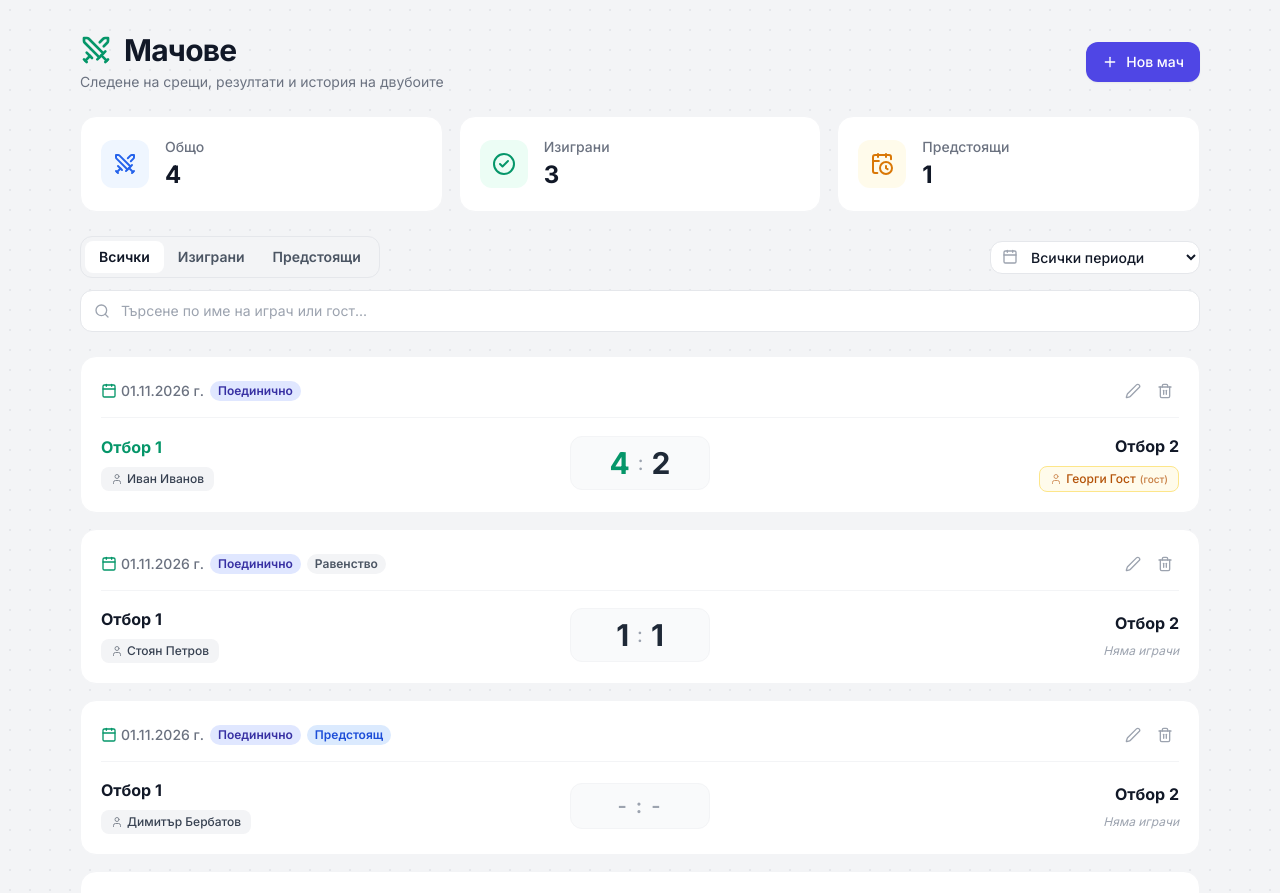
MatchesPage Integration Tests › applies combined AND filtering logic (Status AND Period AND Search)
Note: Switch to "Предстоящи"
Step 1. Click the button "Предстоящи" → (317, 257), box [259,241,375,273]
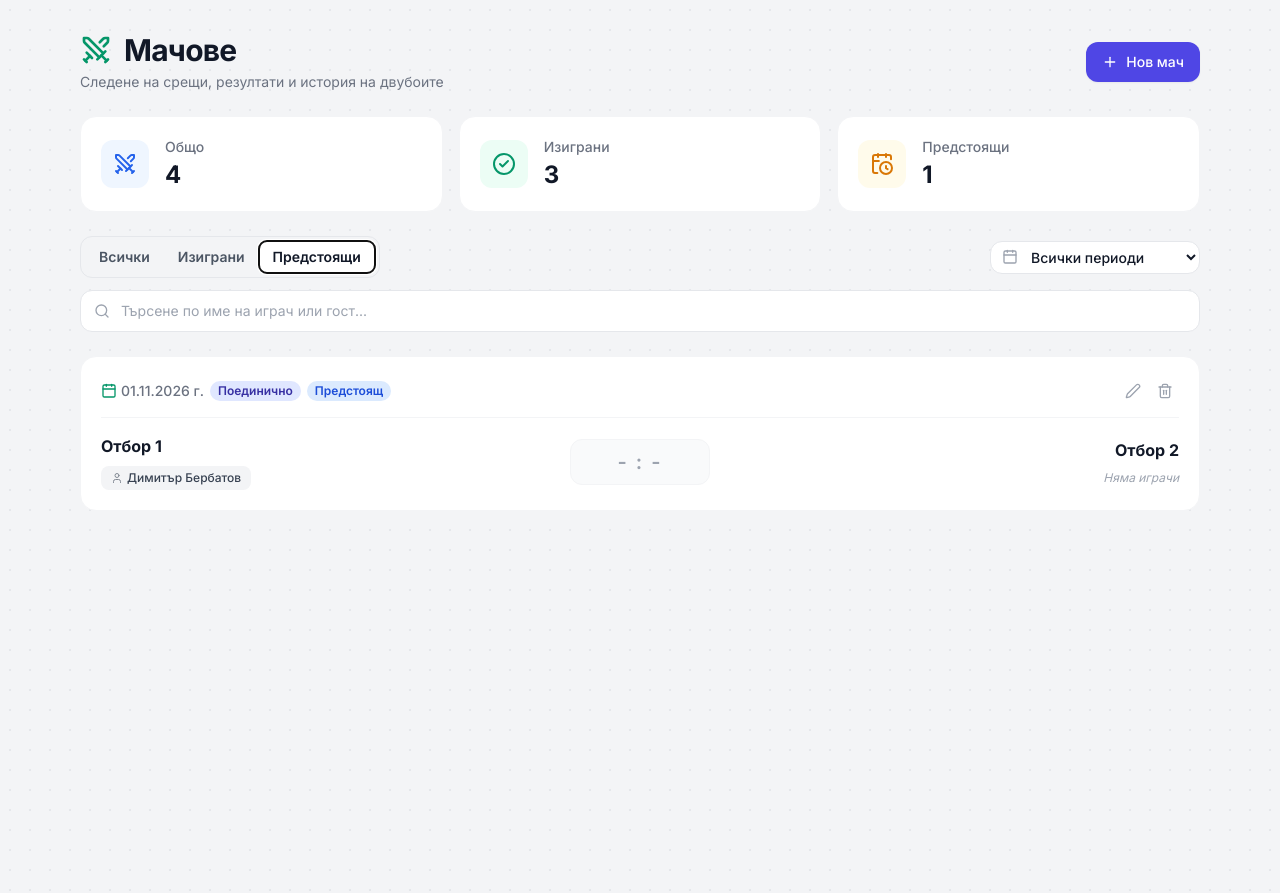
Note: Select "Тази седмица"
Step 2. Select "Тази седмица" in the dropdown named "Филтър по период" → (1095, 257), box [990,240,1200,274]
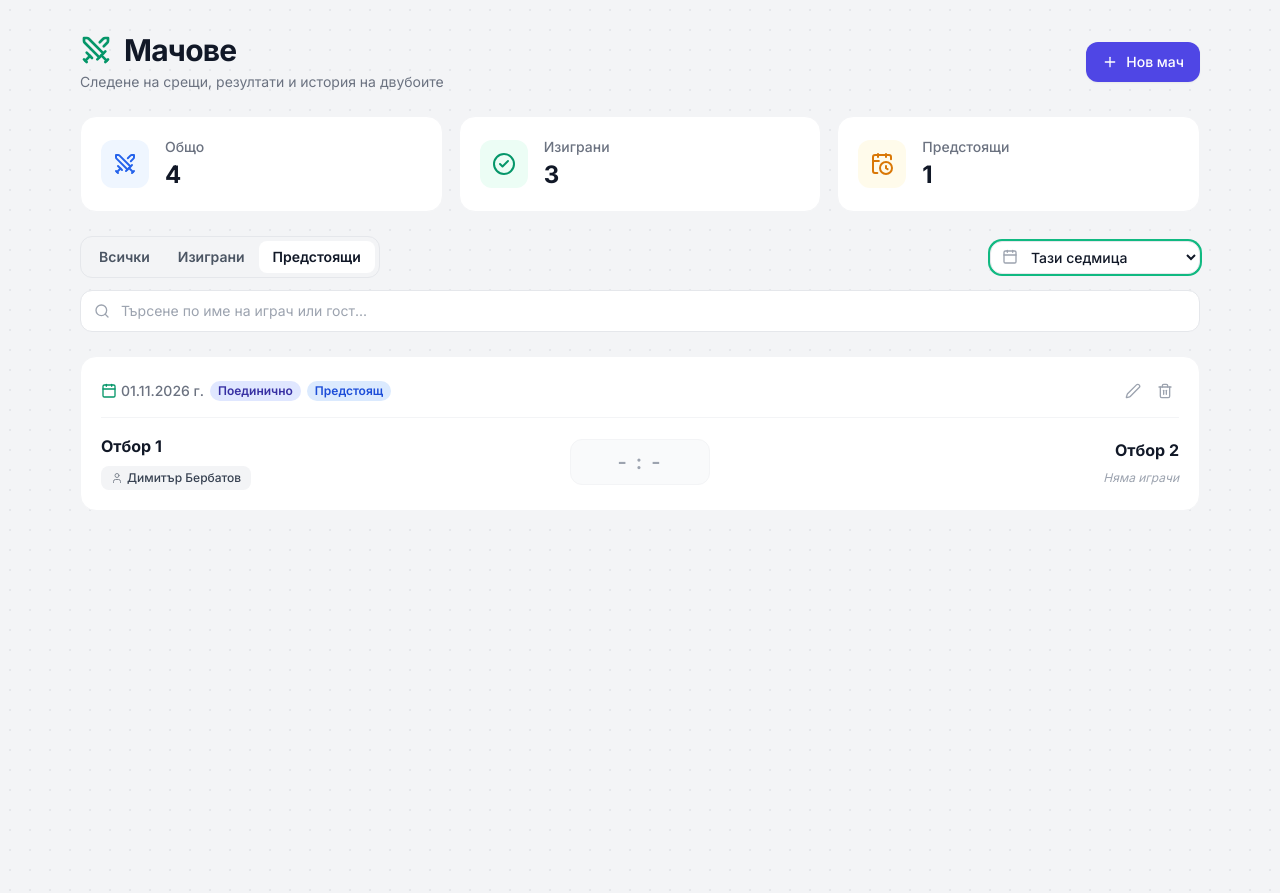
Note: Search for "Бербатов"
Step 3. Type "Бербатов" into the field with placeholder "Търсене по име на играч или гост..." → (640, 311), box [80,290,1200,332]
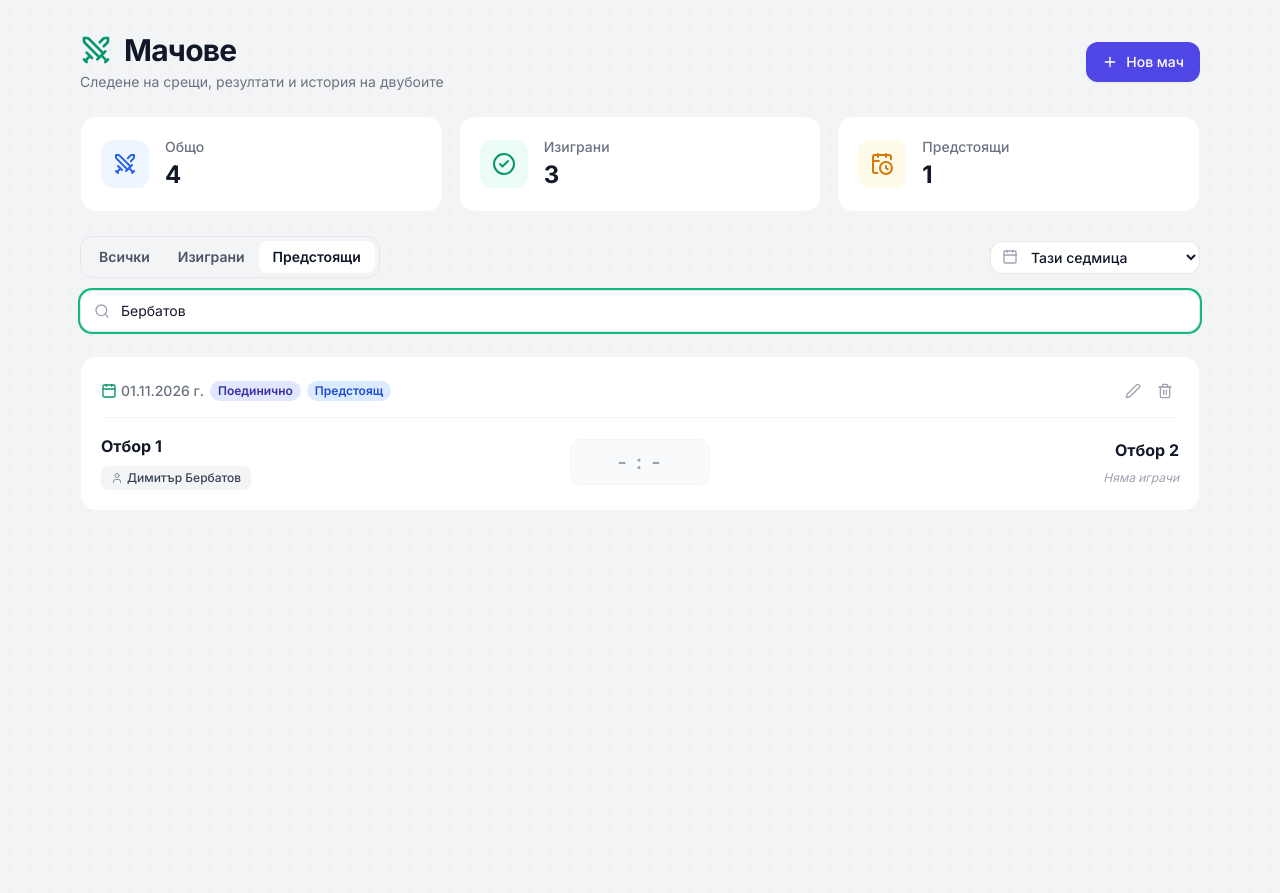
Expected: the text "Димитър Бербатов" is shown, [127,470,241,486]
Expected: the text "Иван Иванов" is not shown
Note: Search for someone not upcoming: "Иван"
Step 4. Replace the text in the field with placeholder "Търсене по име на играч или гост..." with "Иван" → (640, 311), box [80,290,1200,332]
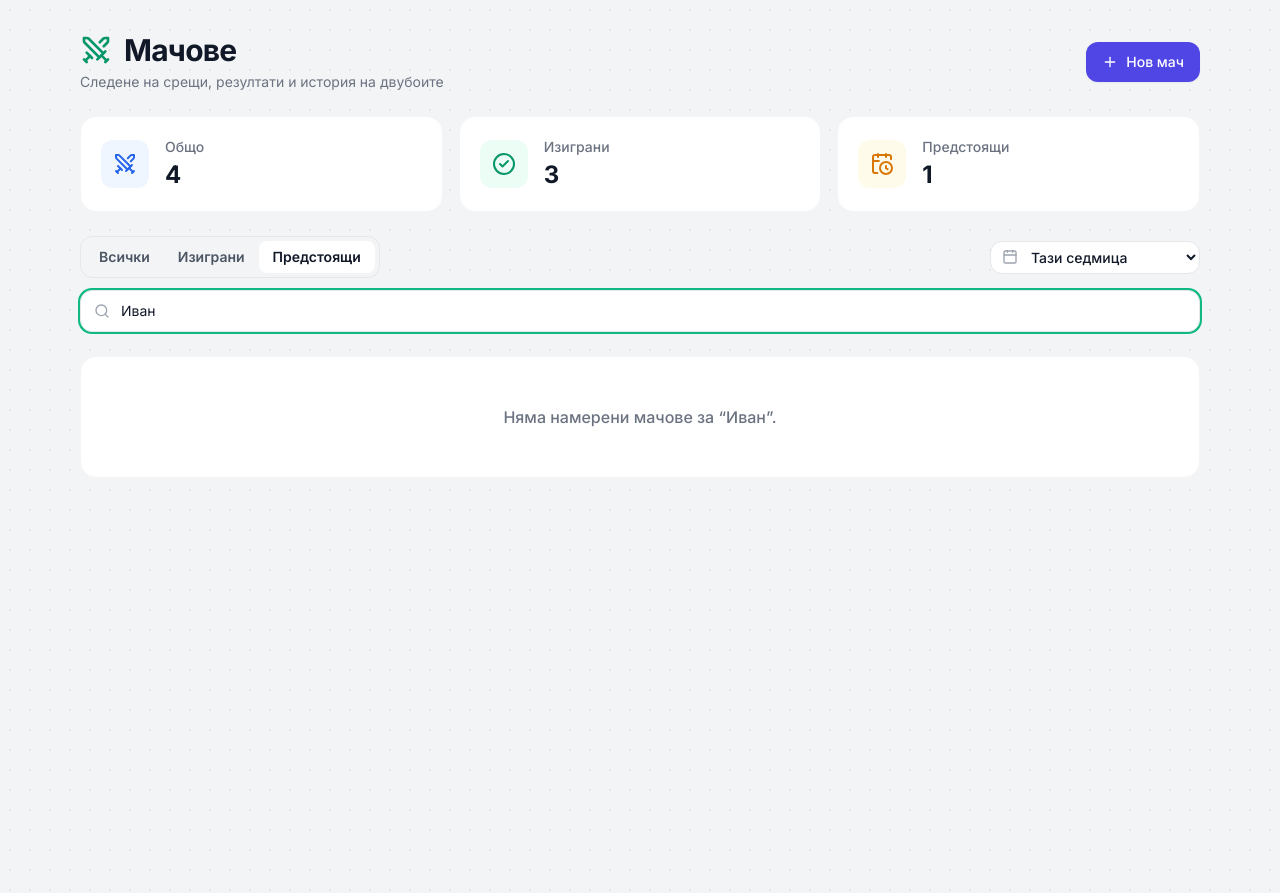
Now the text "Няма намерени мачове за “Иван”." is shown, box [503,407,776,427]
Now the text "Димитър Бербатов" is gone
